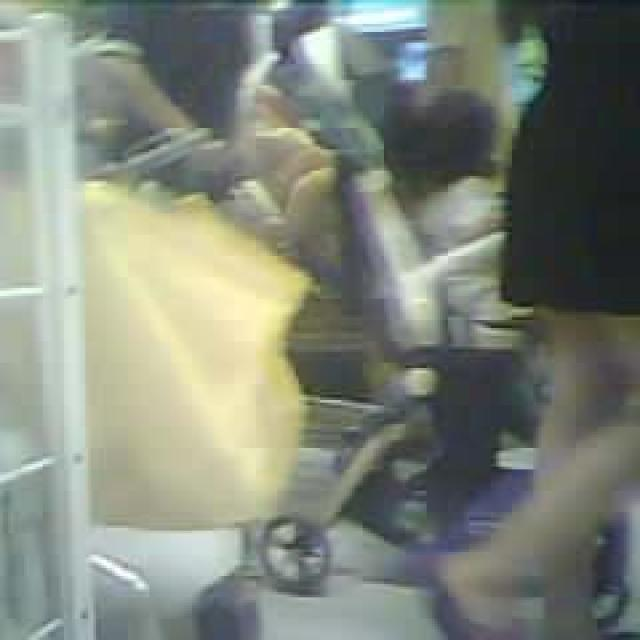person: (437, 0, 640, 640), (95, 0, 252, 184)
